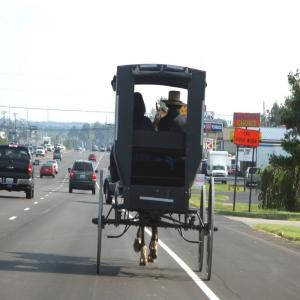Vehicle-registration-plate: (81, 174, 86, 180)
